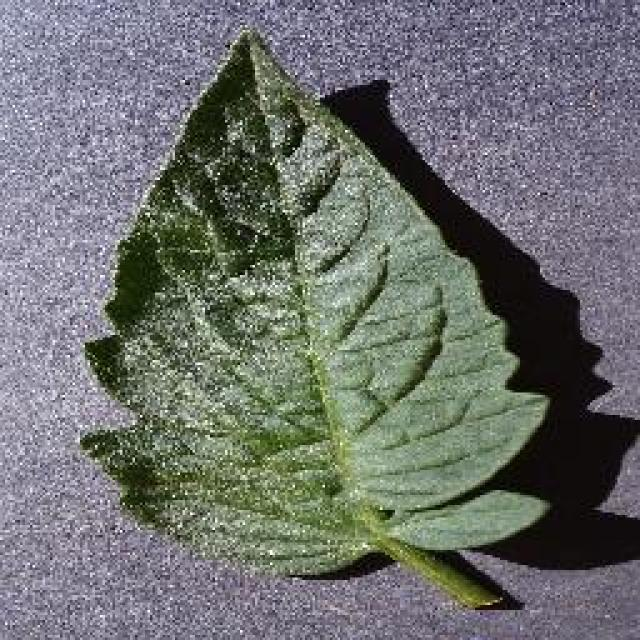Tomato_Healthy: (71, 28, 548, 588)
